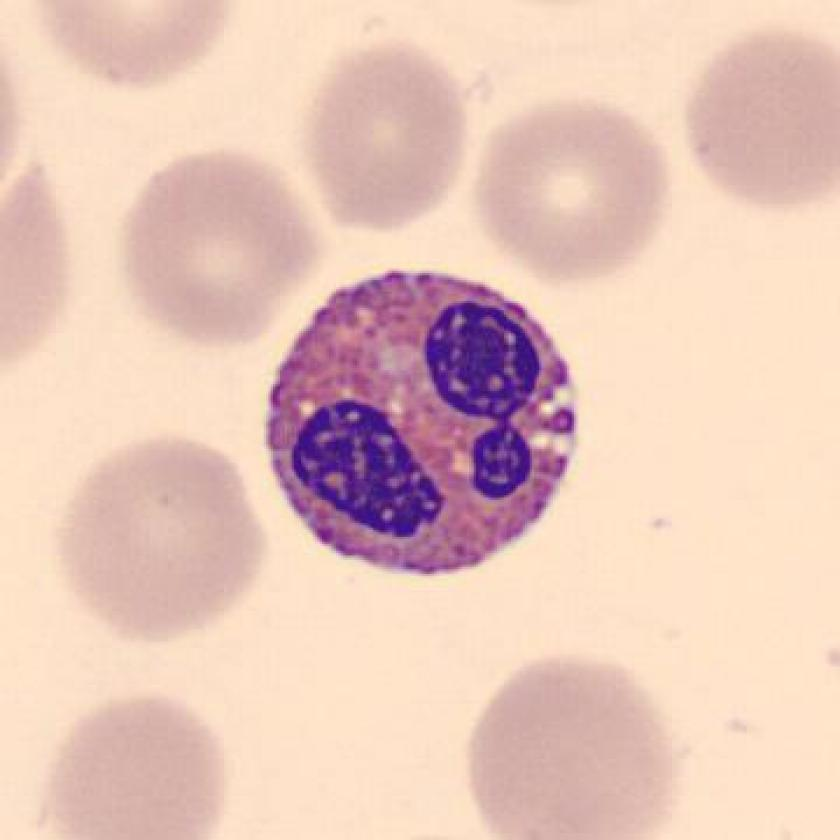eosinophil: (253, 256, 591, 584)
